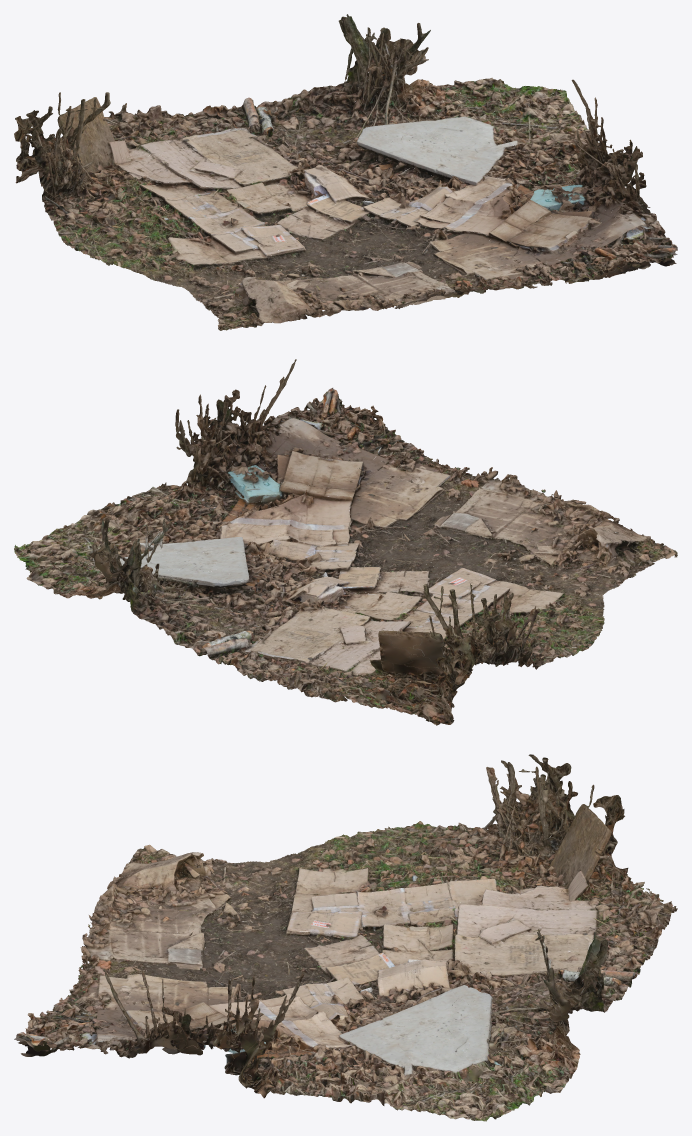
File: sf-homeless-shelter-c80b6d.glb
3 renders of one model, top to bottom at view 1: azimuth 30°, elevation 25°; view 2: azimuth 150°, elevation 25°; view 3: azimuth 270°, elevation 25°, orthographic. The views are drawn at different scales.
Parts seen in each view (by area): view 1: Model_material0_0, Model_material1_0; view 2: Model_material0_0, Model_material1_0; view 3: Model_material0_0, Model_material1_0.
Boxes of the visible parts, box(x1,y1,x2,y2) form: Model_material0_0: box(15, 14, 677, 330); Model_material1_0: box(14, 17, 677, 330); Model_material0_0: box(14, 359, 677, 725); Model_material1_0: box(16, 373, 677, 721); Model_material0_0: box(14, 754, 671, 1121); Model_material1_0: box(16, 757, 677, 1120).
Bounding box in the file's own units: 4.31 × 0.8257 × 4.18.
2 materials, 2 textured.
